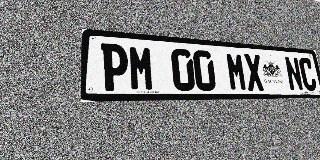0: (171, 48, 195, 91), (192, 50, 216, 91)
C: (298, 57, 318, 91)
M: (128, 45, 155, 91), (225, 52, 248, 91)
N: (284, 56, 304, 91)
P: (101, 43, 129, 91)
X: (243, 53, 265, 91)
